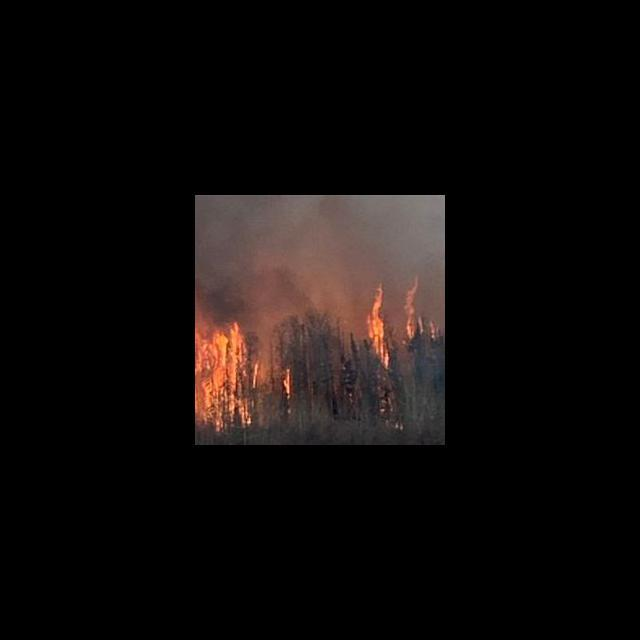Fire: (195, 304, 255, 431), (398, 274, 444, 342), (361, 284, 390, 369), (281, 368, 292, 399)
